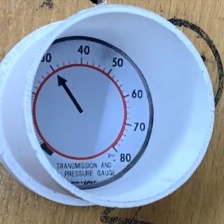gauge: (33, 37, 152, 189)
